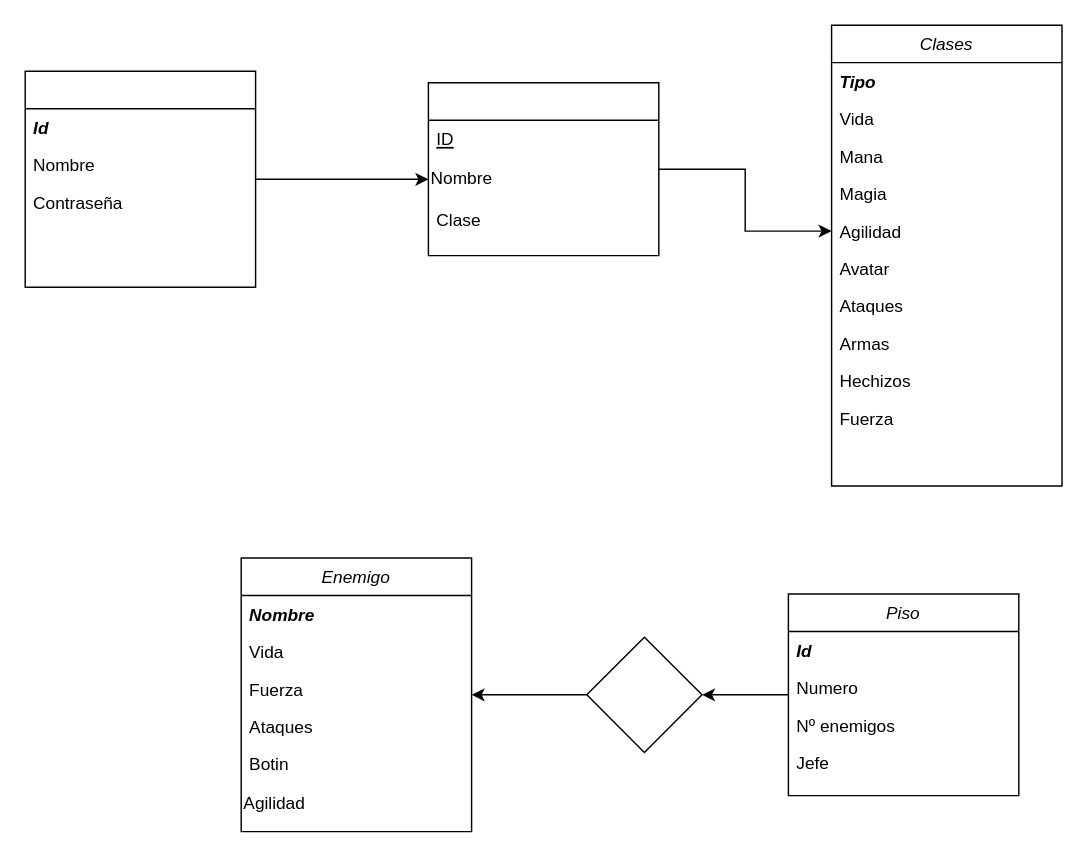
The diagram is 1087 pixels wide and 857 high, and some of its shapes have lost their labels. Each missing label, with the box of its shape:
Personaje: (427, 81, 659, 256)
Usuario: (24, 70, 256, 287)
